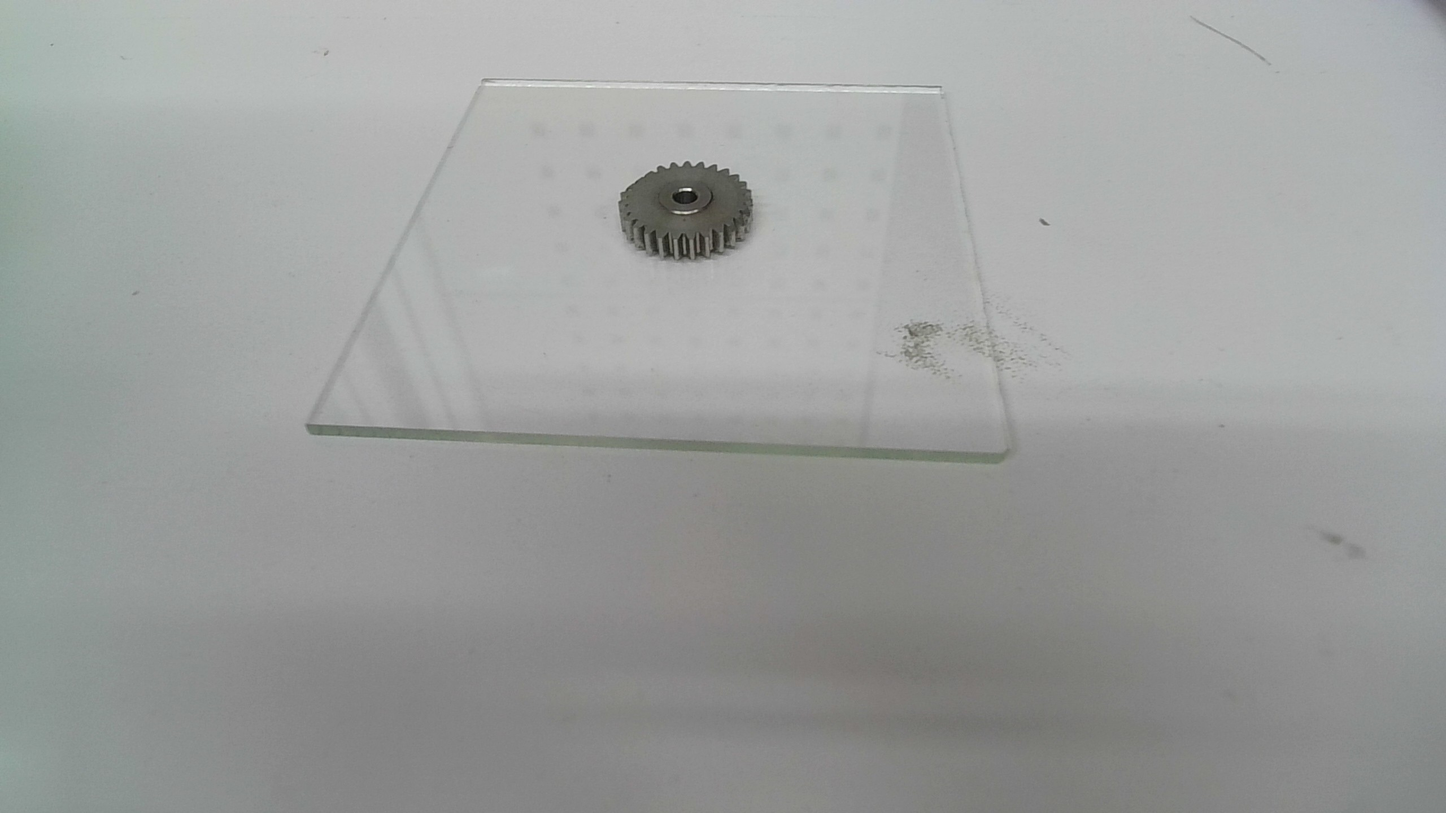gear: (615, 159, 758, 264)
